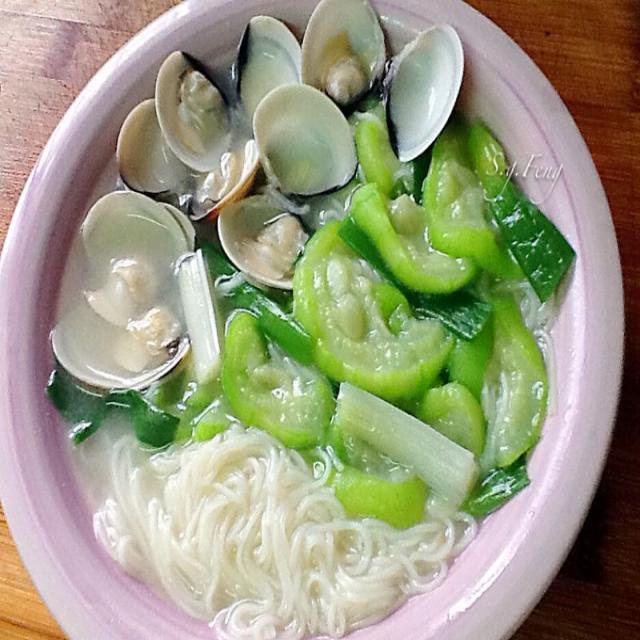Wet: (64, 47, 529, 500)
